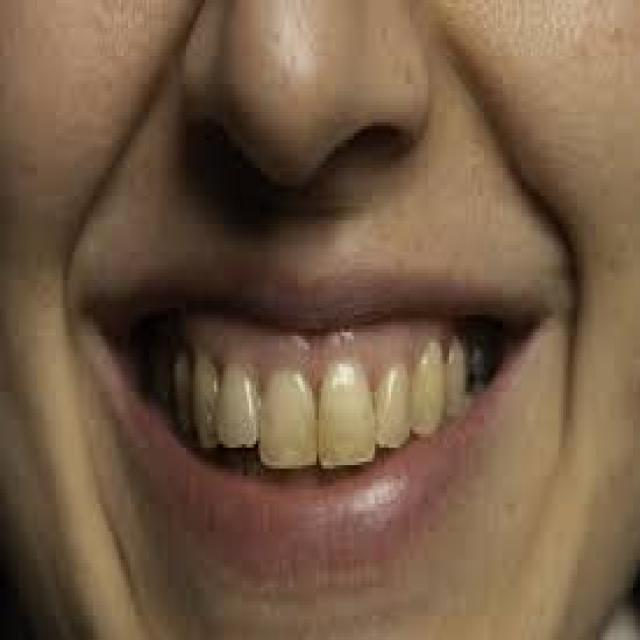Tooth Discoloration: (246, 411, 382, 470)
